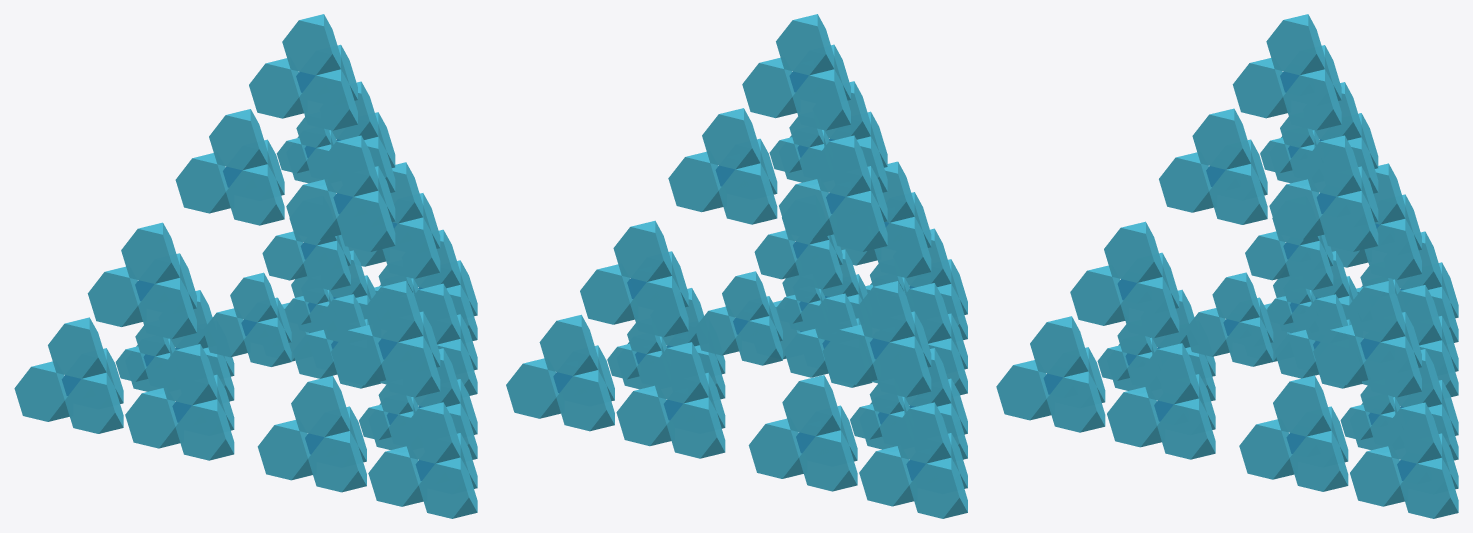
Rendered from fractaltruncatedtetrahedron3.glb.
The picture shows the model from 3 angles, left to right: view 1: azimuth 30°, elevation 25°; view 2: azimuth 150°, elevation 25°; view 3: azimuth 270°, elevation 25°; orthographic projection.
Size of the model in its own units: 8.48 by 6.95 by 7.48.
